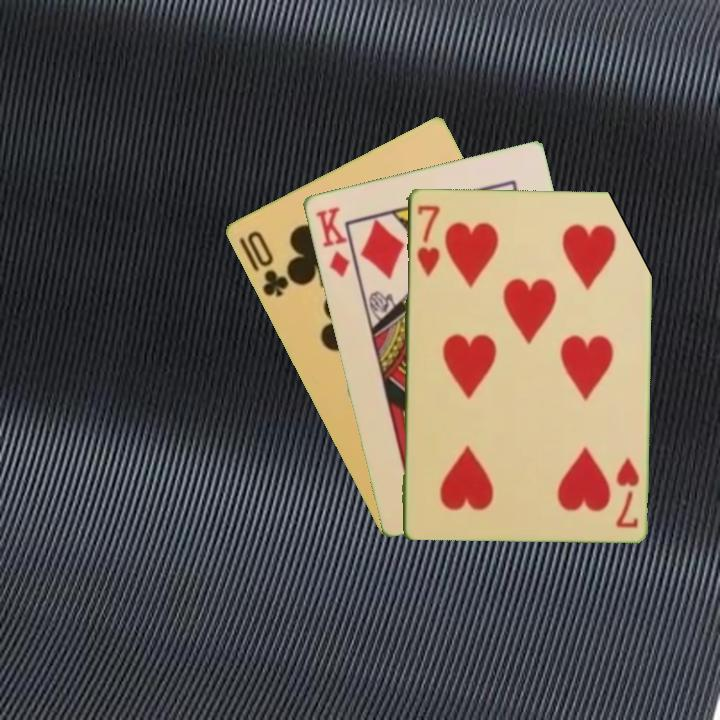10c: (243, 227, 292, 300)
7h: (612, 453, 642, 531), (413, 201, 442, 279)
Kd: (311, 203, 352, 280)
